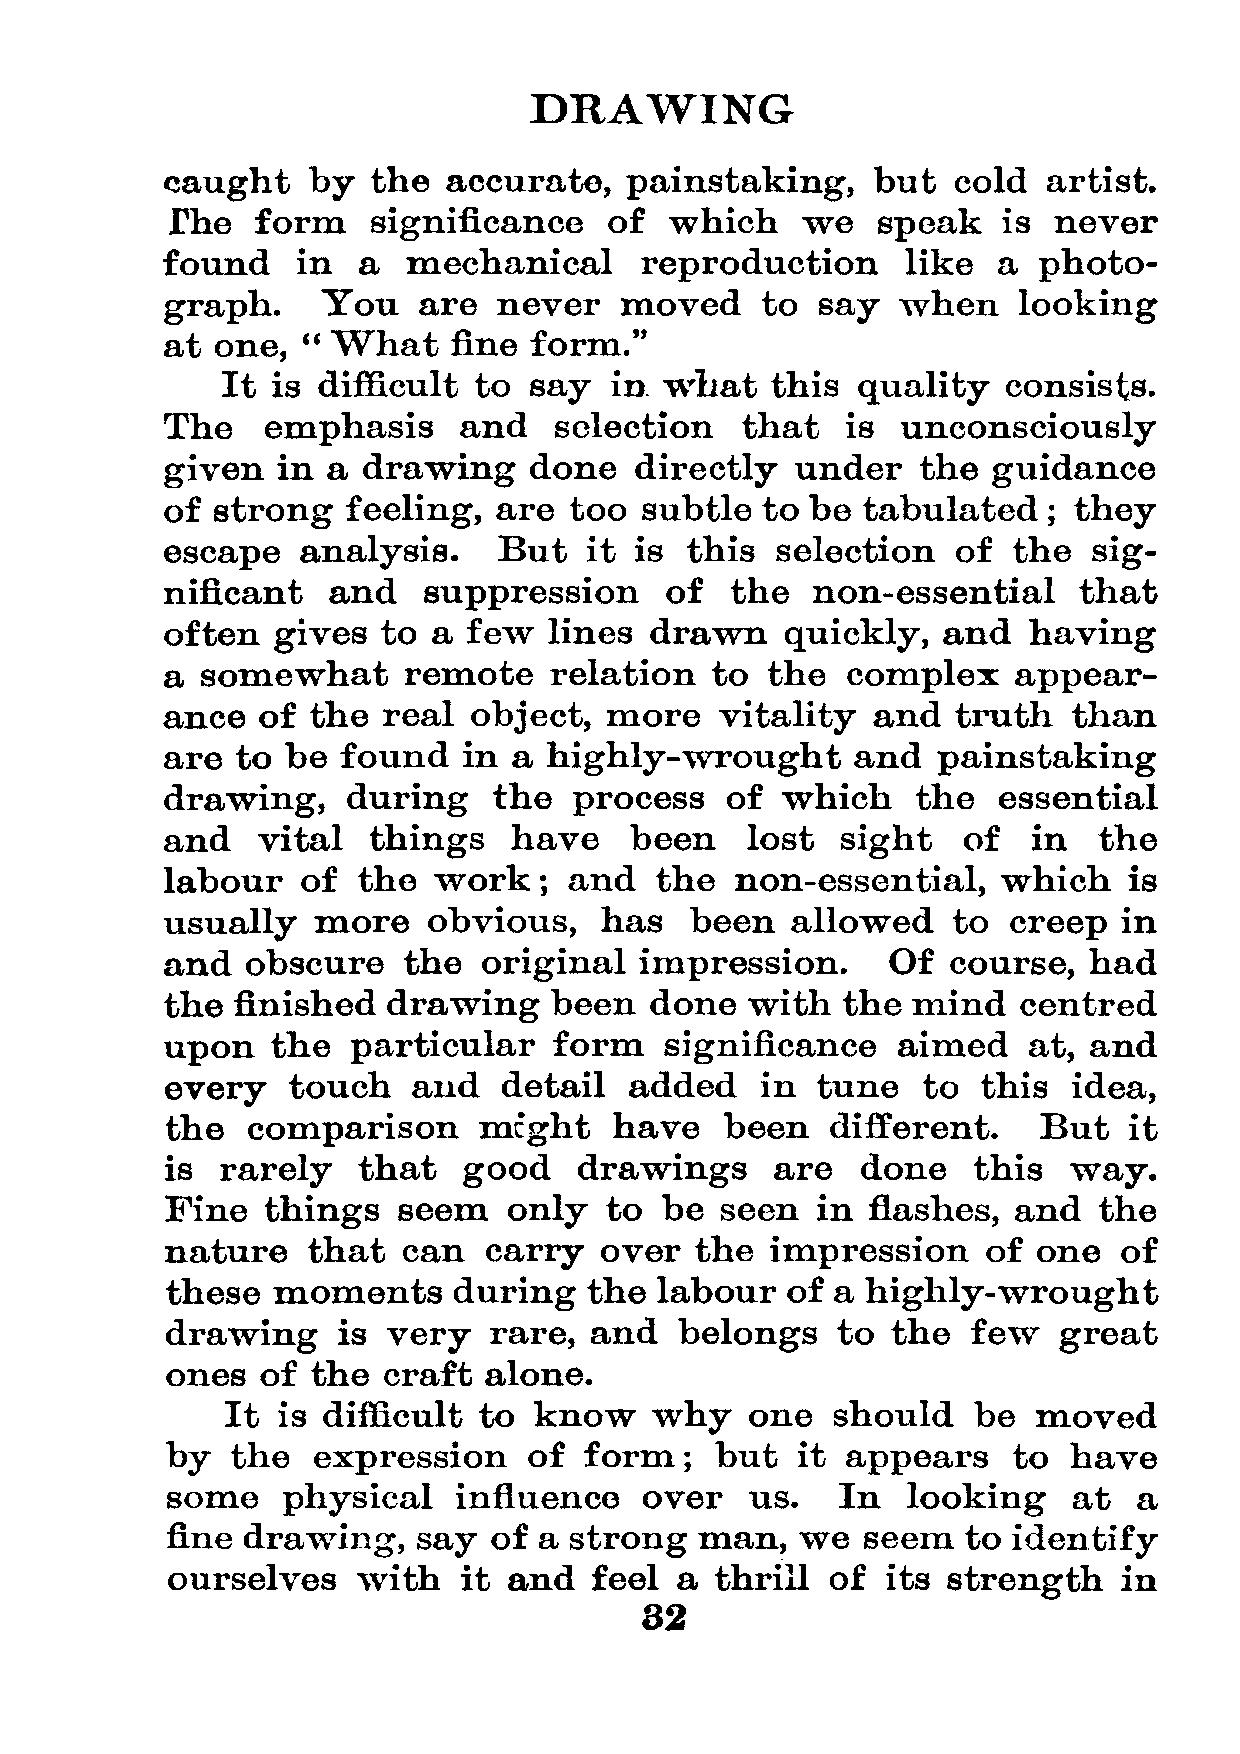chapter: (518, 83, 794, 129)
content: (157, 162, 1174, 1600)
content_pagenumber: (635, 1602, 690, 1631)
